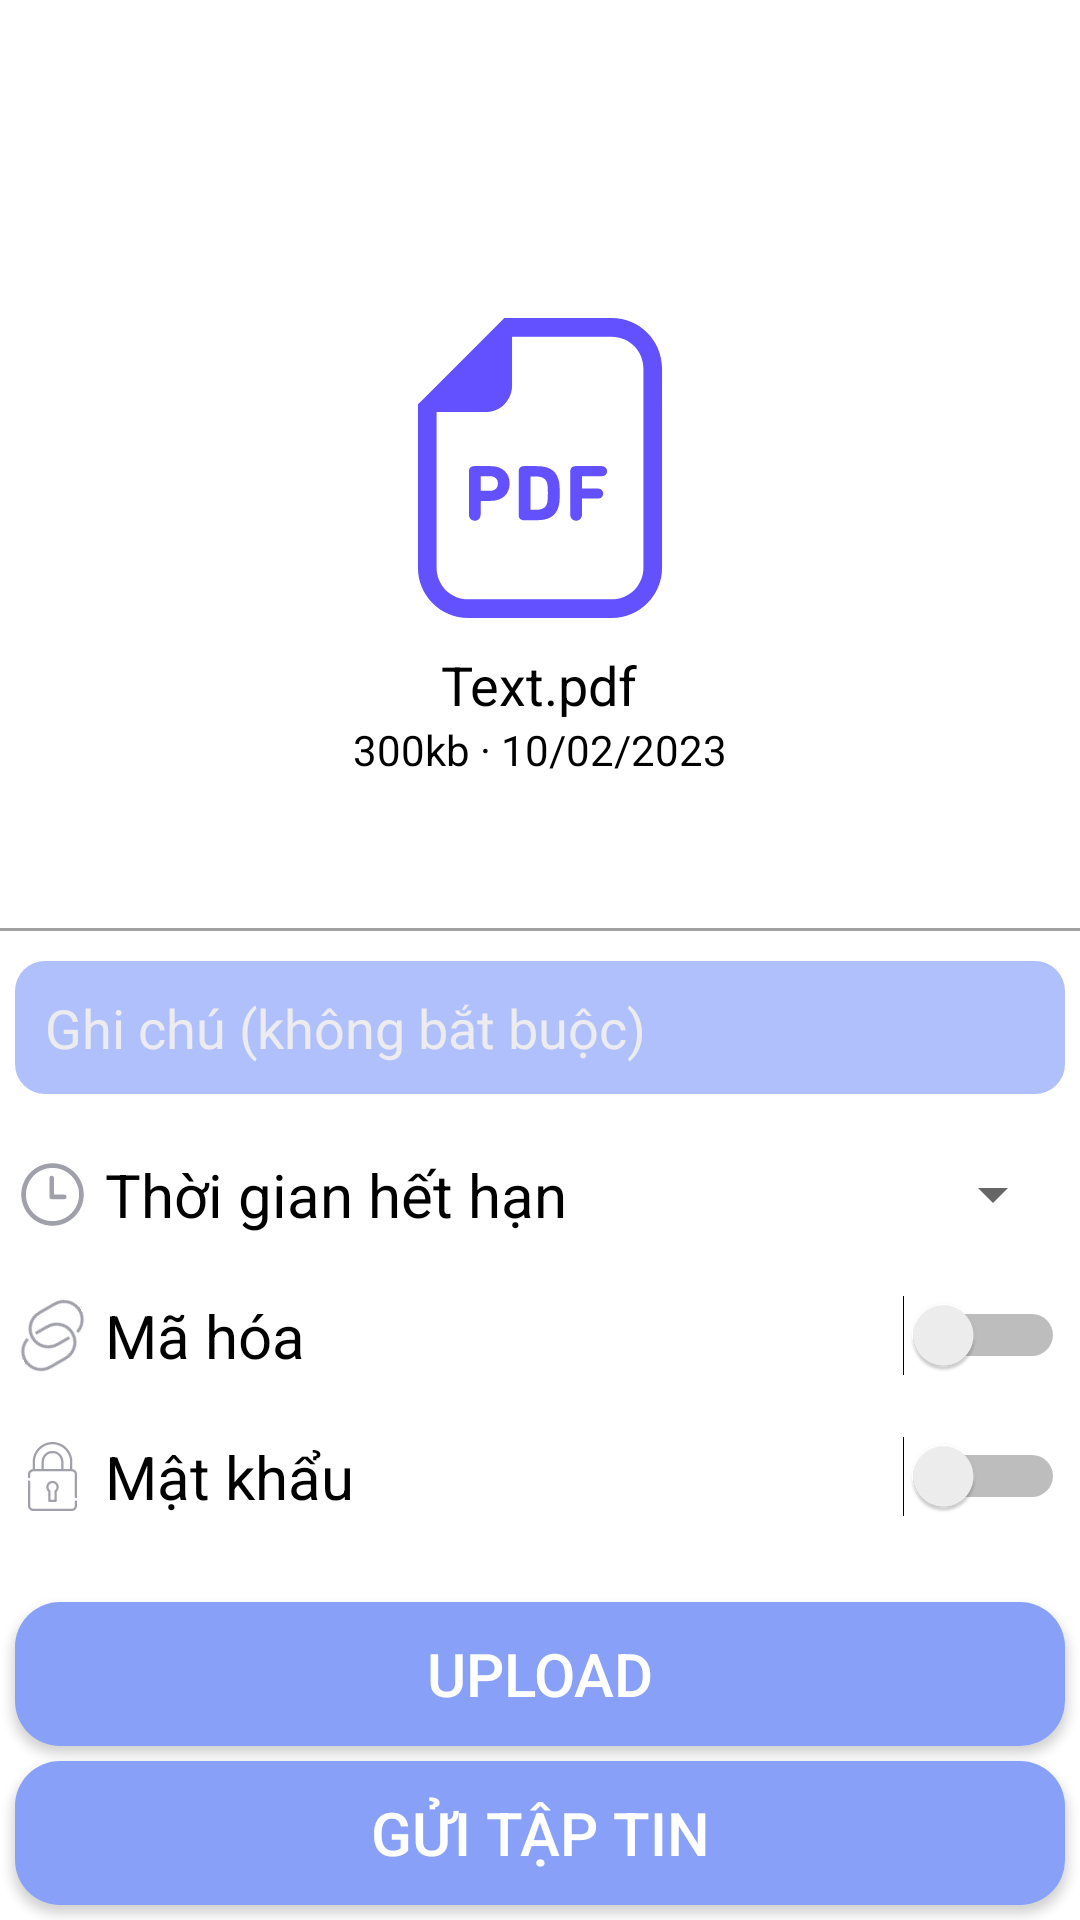

Locate icon controls on the screen. Image size 1080×1920, boxes as (x1, y1, x2, y2).
clock: (21, 1163, 84, 1226)
lock: (28, 1442, 77, 1511)
